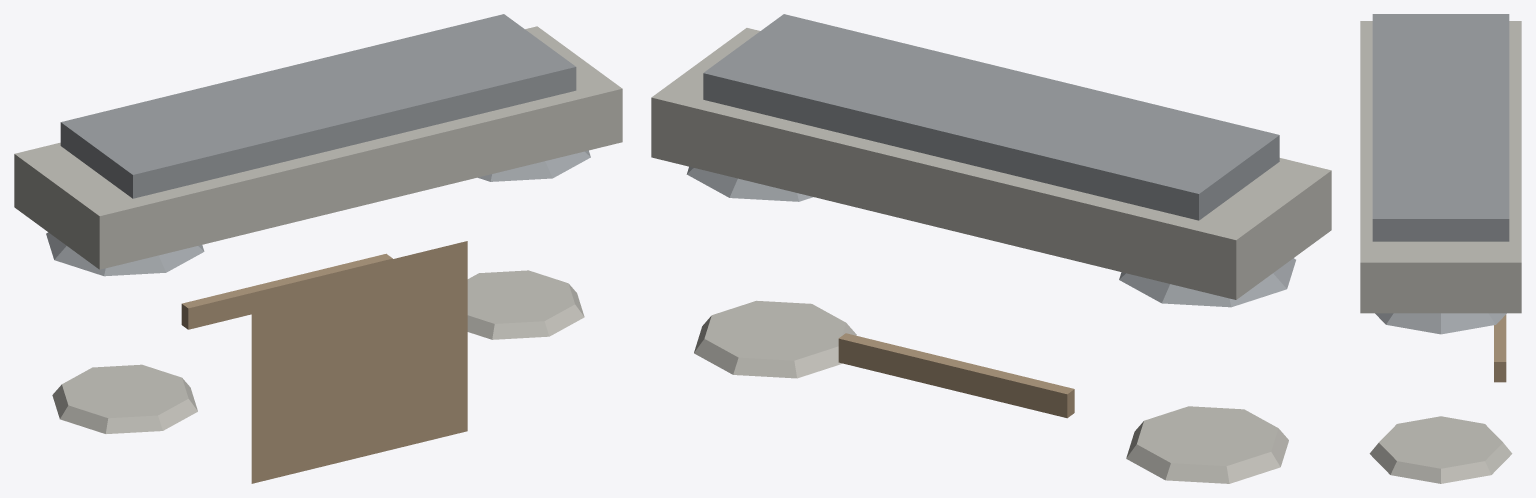
File: gate_arch.glb
The picture shows the model from 3 angles, left to right: view 1: azimuth 30°, elevation 25°; view 2: azimuth 150°, elevation 25°; view 3: azimuth 270°, elevation 25°; orthographic projection. The views are drawn at different scales.
Parts seen in each view (by area): view 1: lod0; view 2: lod0; view 3: lod0.
Boxes of the visible parts, x1=… form: lod0: x1=14, y1=14, x2=622, y2=483; lod0: x1=651, y1=14, x2=1331, y2=483; lod0: x1=1360, y1=14, x2=1521, y2=483.
Size of what is drawn, in the model's own units: 9.3 by 5.6 by 2.6.
